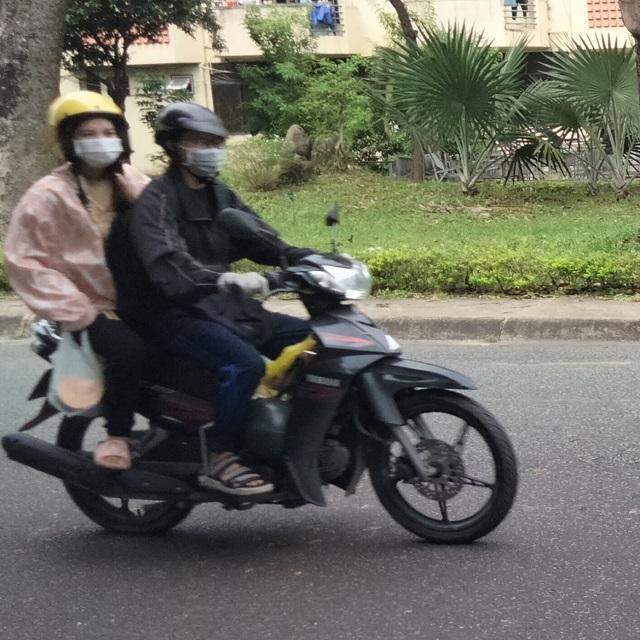Helmet: (48, 84, 132, 174), (151, 99, 233, 185)
